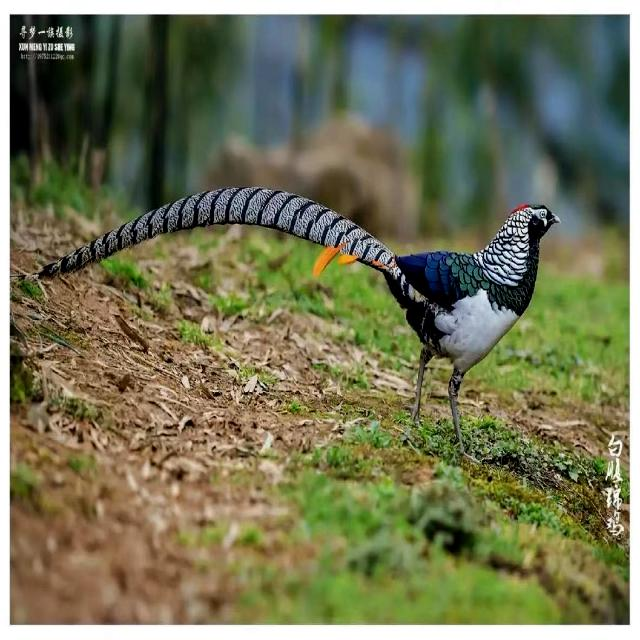Chrysolophus amherstiae: (40, 187, 393, 274)
